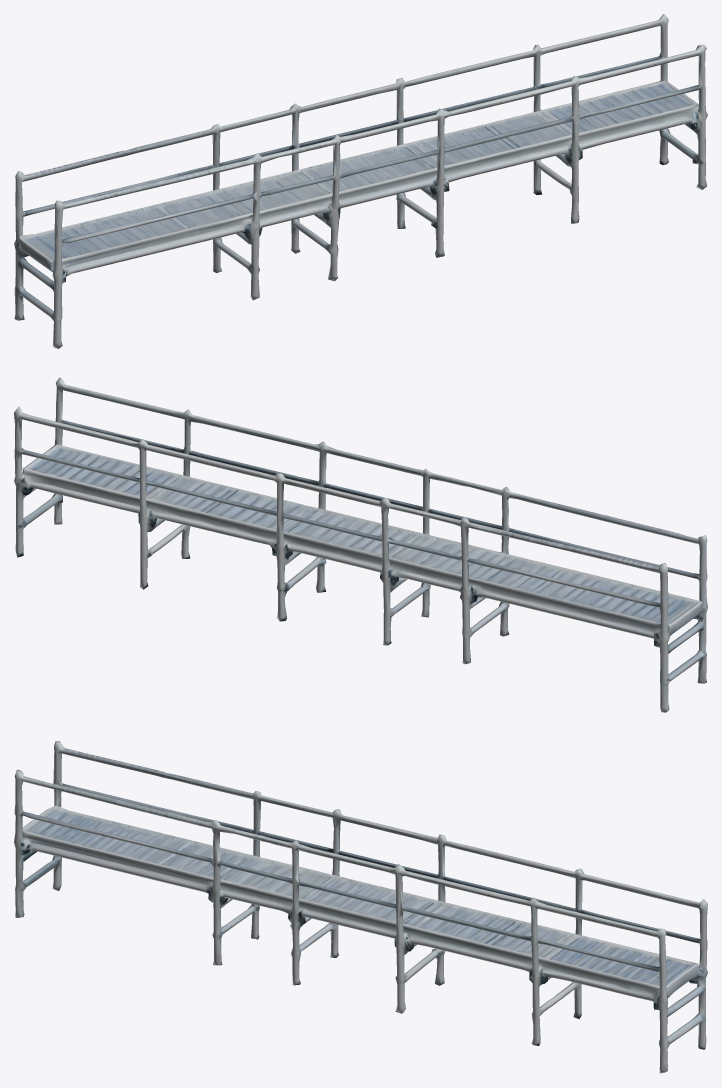
Rendered from metalBridge.fbx.
The picture shows the model from 3 angles, top to bottom: view 1: azimuth 30°, elevation 25°; view 2: azimuth 150°, elevation 25°; view 3: azimuth 330°, elevation 25°; orthographic projection.
Visible parts, largest first — view 1: tripo_node_dfe863d3; view 2: tripo_node_dfe863d3; view 3: tripo_node_dfe863d3.
Part boxes in pixels (bbox=[...]): tripo_node_dfe863d3: bbox=[14, 14, 707, 348]; tripo_node_dfe863d3: bbox=[14, 377, 707, 712]; tripo_node_dfe863d3: bbox=[14, 741, 707, 1073].
Bounding box in the file's own units: 1 × 0.2194 × 0.1221.
1 material, 1 textured.
